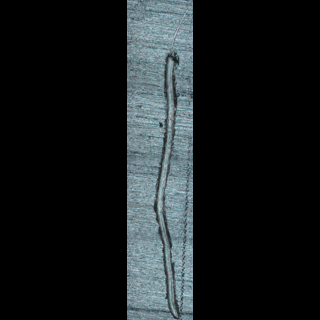d: (152, 47, 185, 319)
